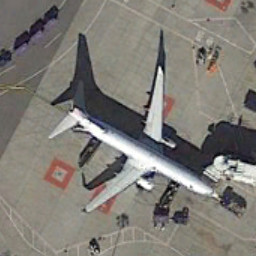Airplane: (45, 59, 231, 218)
